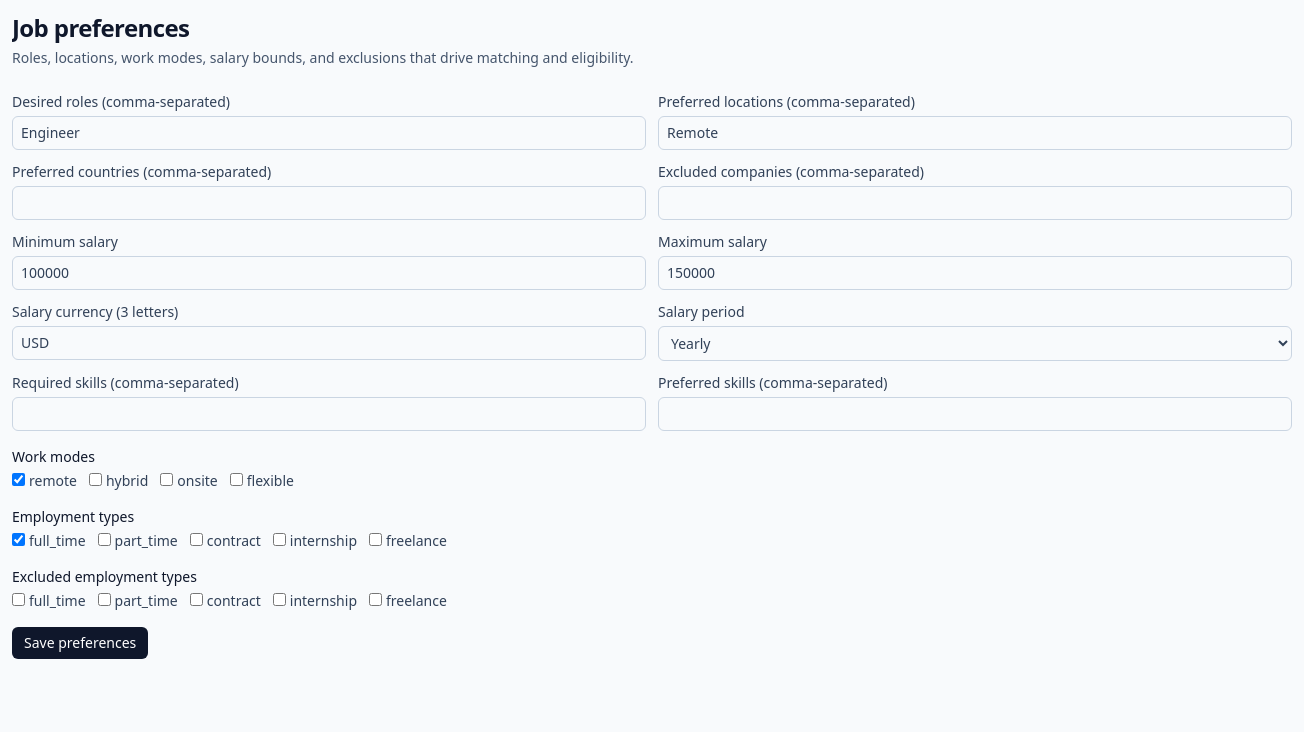
it: PreferencesPage › loads preferences and saves changes
The width and height of the screenshot is (1304, 732).
Expected: the number field showing "100000" is shown, [12,256,646,290]
Replace the text in the field labelled "Desired roles" with "Engineer, Designer" at [329, 133], box [12,116,646,150]
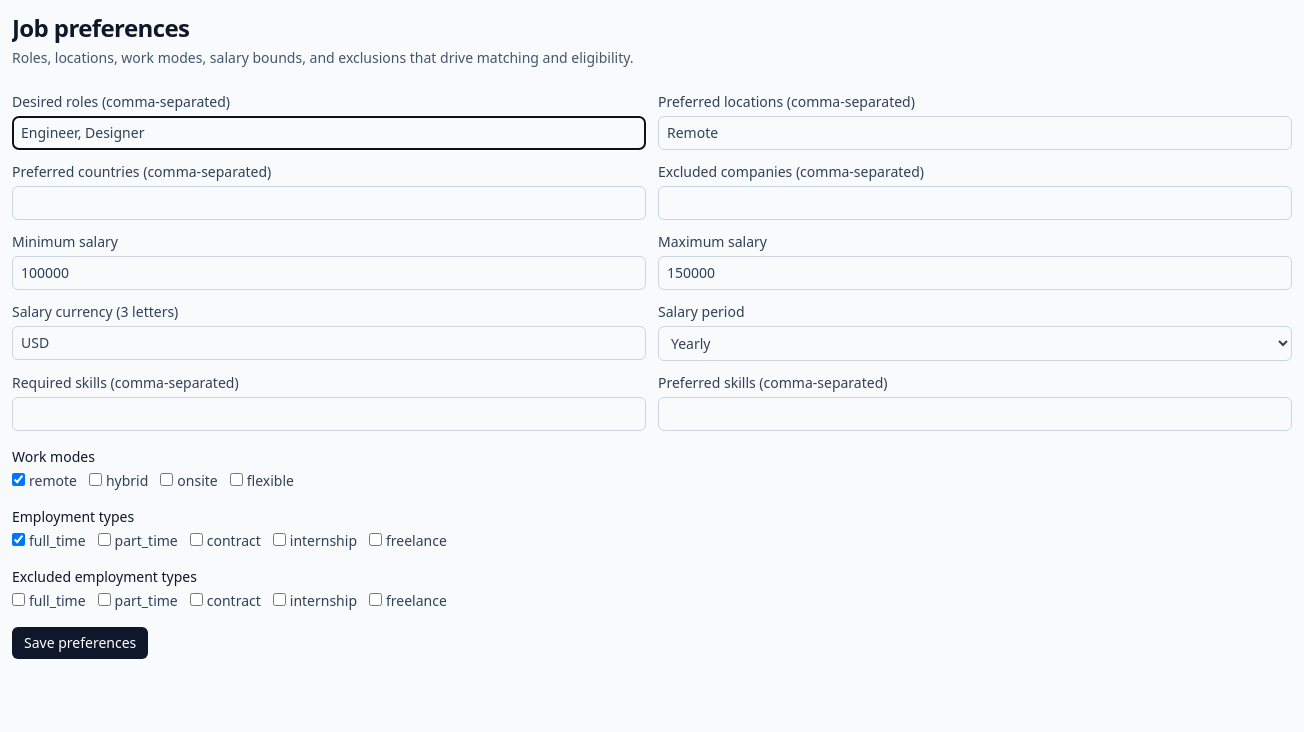
Click the button "Save preferences" at [80, 643], box [12,627,148,659]
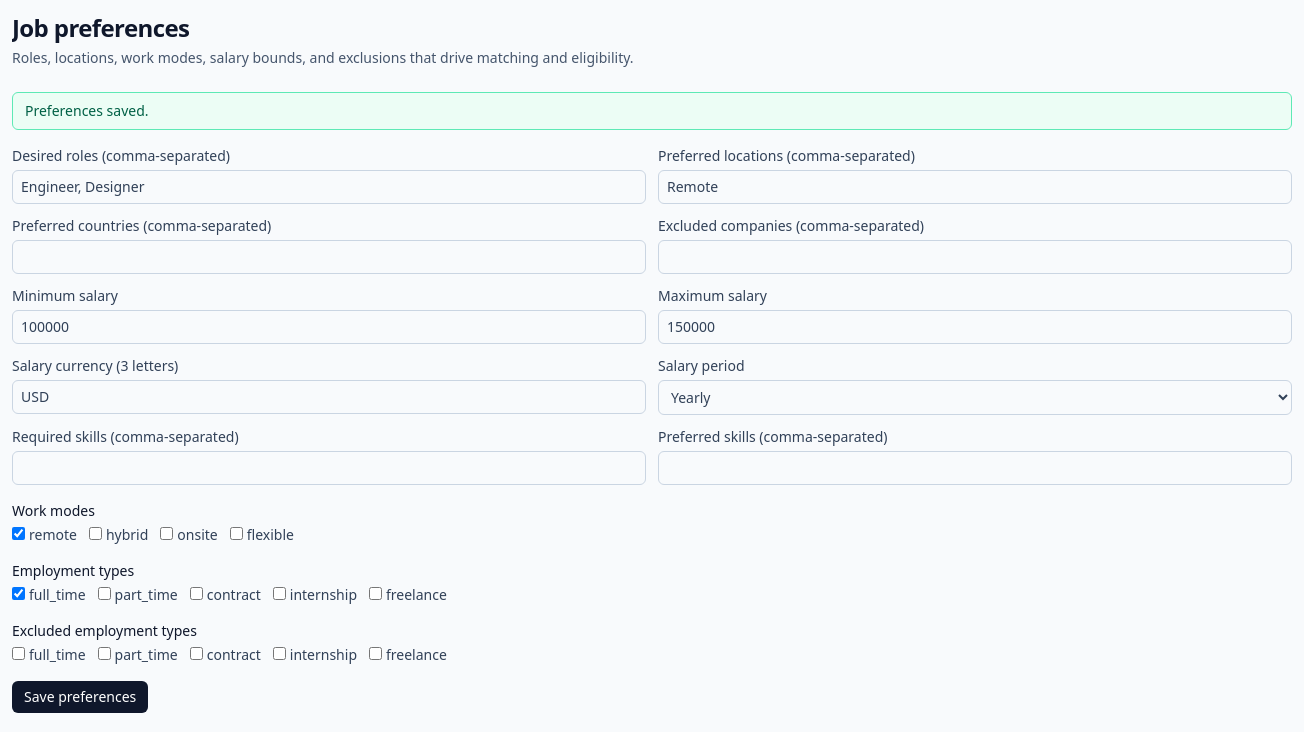
Result: the text "Preferences saved." is shown at [12,92,1292,130]
